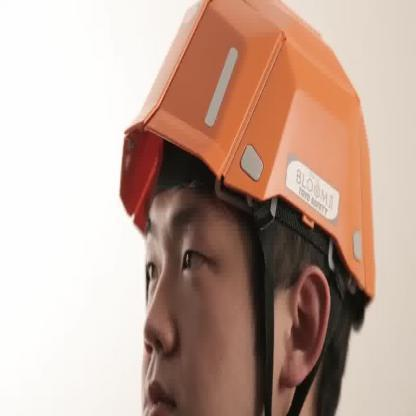helmet: (118, 0, 378, 335)
